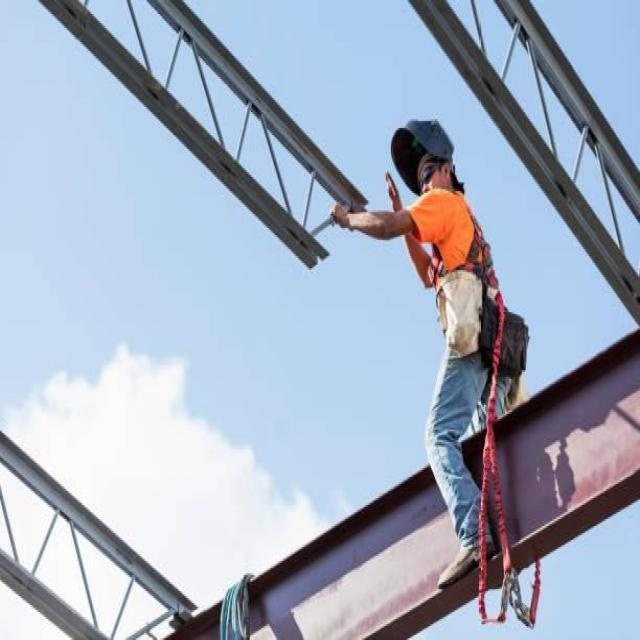Arnes_seguridad: (428, 194, 507, 371)
